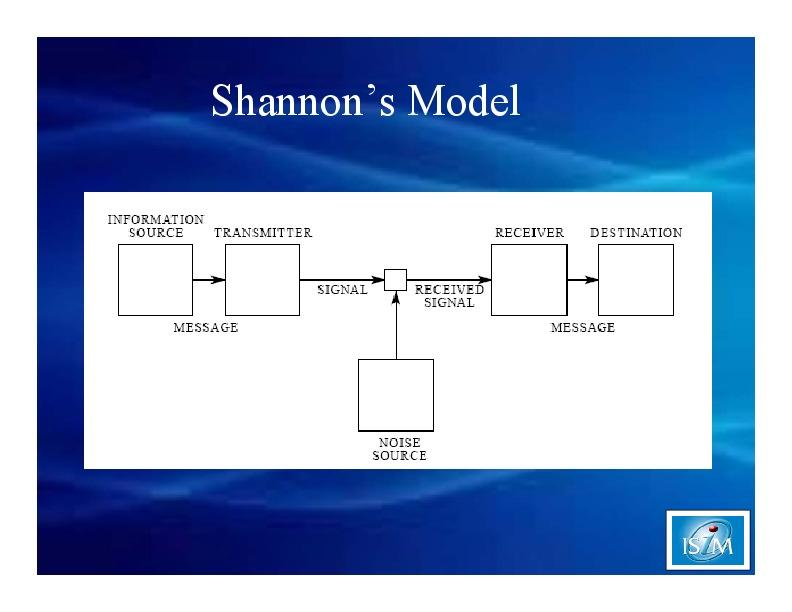title: (203, 69, 529, 131)
